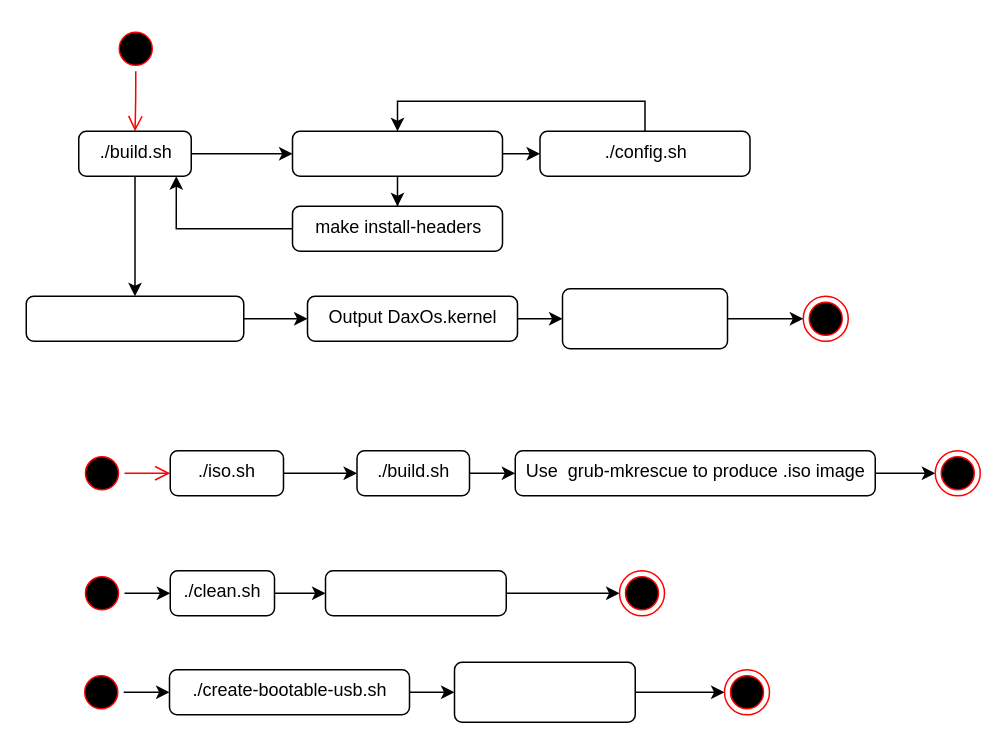
Image size: 1007x749. Some labels were removed from this diagram. Here are the shapes that lost their labels. From the top down, the centre of each, then its label:
At point (396, 153): "./headers.sh".
At point (134, 318): "make install on each dir".
At point (644, 318): "Copy DaxOs.kernel to / boot".
At point (415, 592): "rm -r build-artifacts".
At point (544, 691): "Create bootable USB from iso image".
